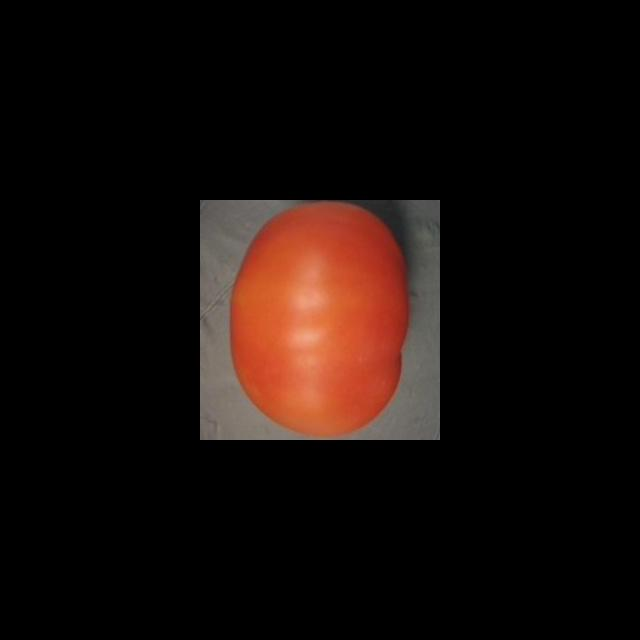tomato: (224, 200, 414, 440)
